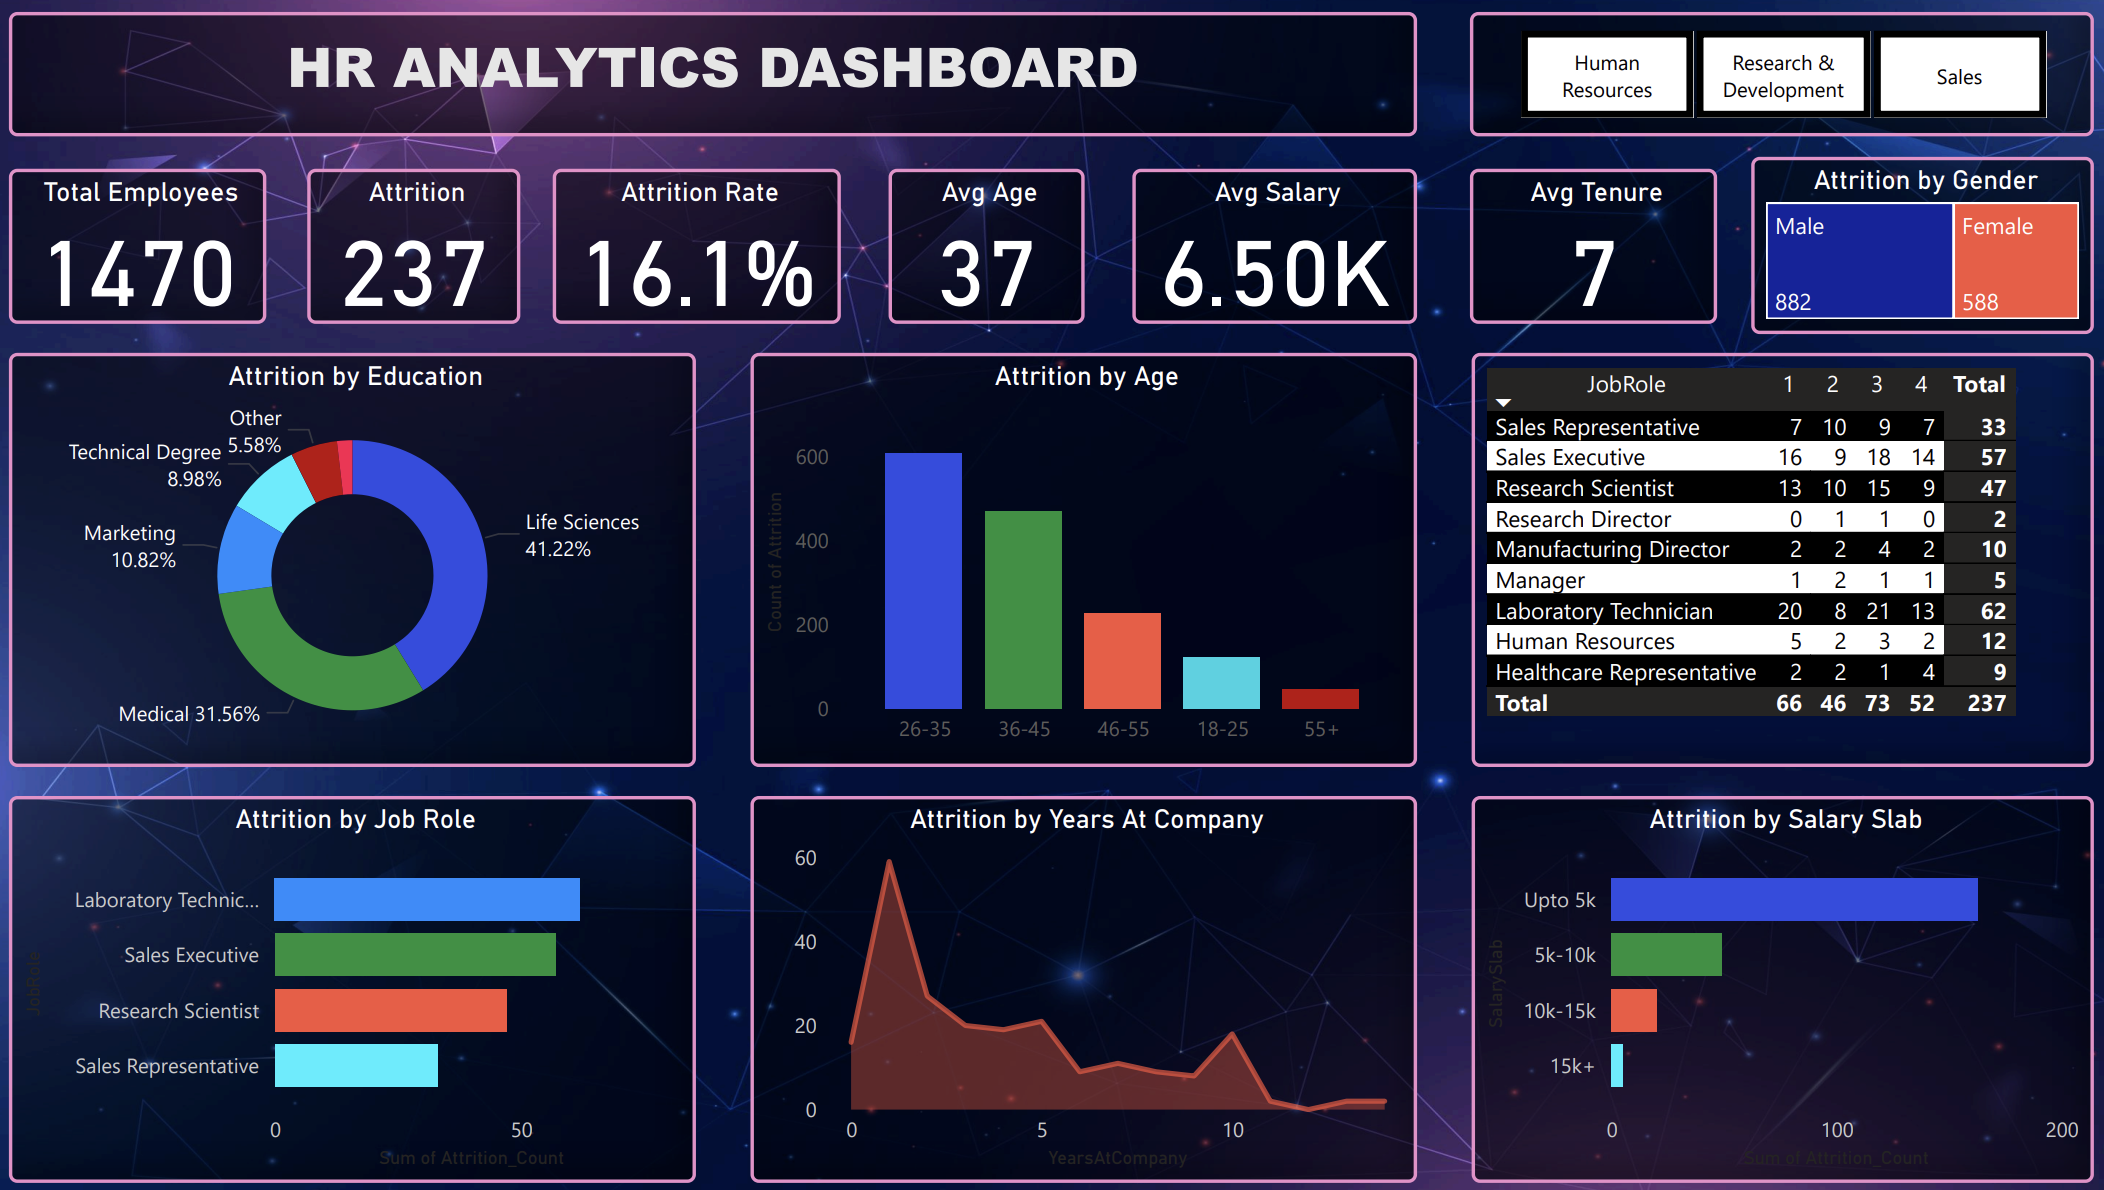

Layout of this report page (visuals, bound fields, positions):
{"tool":"powerbi","page":{"name":"Page 1","canvas":[1280,720],"ordinal":0},"visuals":[{"type":"card","title":"Total Employees","fields":{"Values":["CountNonNull(HR_Analytics.EmpID)"]},"box":[16.5,102.1,151.7,90.5],"z":0},{"type":"card","title":"Attrition Rate","fields":{"Values":["HR_Analytics.Attrition Rate"]},"box":[335.6,102.1,169.2,90.5],"z":1000},{"type":"card","title":"Avg Tenure","fields":{"Values":["HR_Analytics.Age_Tenure"]},"box":[874.4,102.1,144.9,90.5],"z":2000},{"type":"card","title":"Attrition","fields":{"Values":["Sum(HR_Analytics.Attrition_Count)"]},"box":[191.6,102.1,125.5,90.5],"z":3000},{"type":"card","title":"Avg Age","fields":{"Values":["Avg(HR_Analytics.Age)"]},"box":[533,102.1,114.8,90.5],"z":4000},{"type":"card","title":"Avg Salary","fields":{"Values":["Avg(HR_Analytics.MonthlyIncome)"]},"box":[676,102.1,167.3,90.5],"z":5000},{"type":"donutChart","title":"Attrition by Education","fields":{"Y":["CountNonNull(HR_Analytics.Attrition)"],"Category":["HR_Analytics.EducationField"]},"box":[16.5,210.1,403.6,243.2],"z":6000},{"type":"clusteredColumnChart","title":"Attrition by Age ","fields":{"Y":["CountNonNull(HR_Analytics.Attrition)"],"Category":["HR_Analytics.AgeGroup"]},"box":[452.3,210.1,391,243.2],"z":7000},{"type":"pivotTable","fields":{"Rows":["HR_Analytics.JobRole"],"Columns":["HR_Analytics.JobSatisfaction"],"Values":["Sum(HR_Analytics.Attrition_Count)"]},"box":[875.4,210.1,364.7,243.2],"z":8000},{"type":"clusteredBarChart","title":"Attrition by Salary Slab ","fields":{"Category":["HR_Analytics.SalarySlab"],"Y":["Sum(HR_Analytics.Attrition_Count)"]},"box":[875.4,469.8,364.7,227.6],"z":9000},{"type":"clusteredBarChart","title":"Attrition by Job Role","fields":{"Category":["HR_Analytics.JobRole"],"Y":["Sum(HR_Analytics.Attrition_Count)"]},"box":[16.5,469.8,403.6,227.6],"z":10000},{"type":"areaChart","title":"Attrition by Years At Company","fields":{"Category":["HR_Analytics.YearsAtCompany"],"Y":["Sum(HR_Analytics.Attrition_Count)"]},"box":[452.3,469.8,391,227.6],"z":11000},{"type":"treemap","title":"Attrition by Gender","fields":{"Values":["CountNonNull(HR_Analytics.Attrition)"],"Group":["HR_Analytics.Gender"]},"box":[1038.8,95.3,201.3,104.1],"z":12000},{"type":"slicer","fields":{"Values":["HR_Analytics.Department"]},"box":[874.4,9.7,365.7,72.9],"z":13000},{"type":"textbox","box":[16.5,9.7,826.7,72.9],"z":14000}]}

Visuals, with their boxes in screenshot pixels (x1, y1, x2, y2), scaled from the page's 1280x720 canvas onto the 2104x1190 screenshot:
"Total Employees" card: l=27, t=169, r=276, b=318
"Attrition Rate" card: l=552, t=169, r=830, b=318
"Avg Tenure" card: l=1437, t=169, r=1675, b=318
"Attrition" card: l=315, t=169, r=521, b=318
"Avg Age" card: l=876, t=169, r=1065, b=318
"Avg Salary" card: l=1111, t=169, r=1386, b=318
"Attrition by Education" donutChart: l=27, t=347, r=691, b=749
"Attrition by Age " clusteredColumnChart: l=743, t=347, r=1386, b=749
pivotTable - HR_Analytics.JobRole x HR_Analytics.JobSatisfaction: l=1439, t=347, r=2038, b=749
"Attrition by Salary Slab " clusteredBarChart: l=1439, t=776, r=2038, b=1153
"Attrition by Job Role" clusteredBarChart: l=27, t=776, r=691, b=1153
"Attrition by Years At Company" areaChart: l=743, t=776, r=1386, b=1153
"Attrition by Gender" treemap: l=1708, t=158, r=2038, b=330
slicer - HR_Analytics.Department: l=1437, t=16, r=2038, b=137
textbox: l=27, t=16, r=1386, b=137
